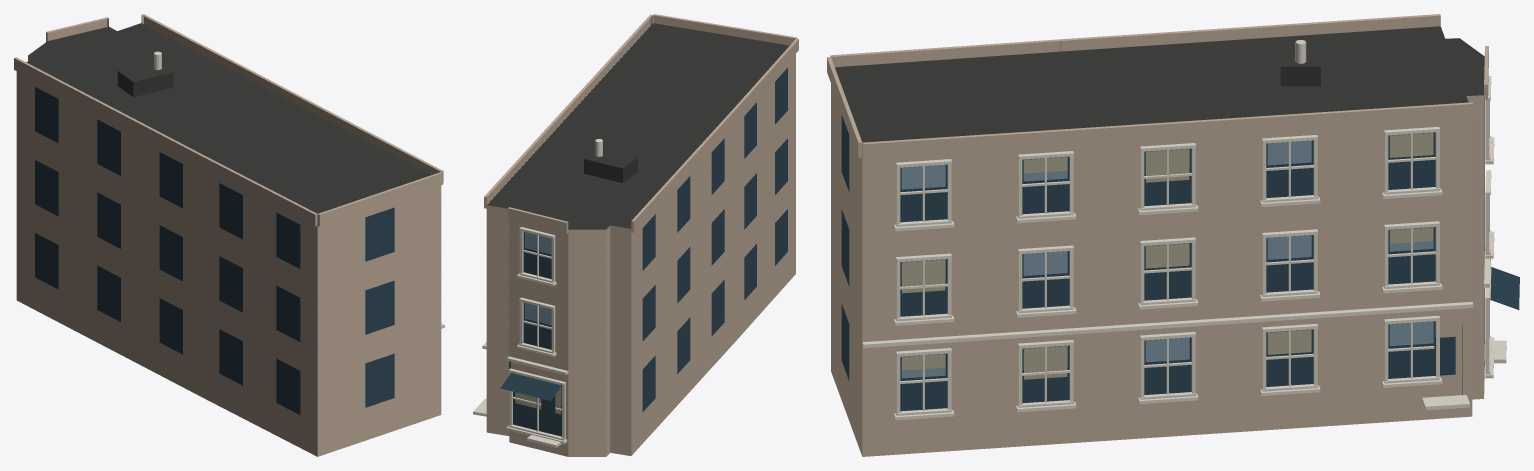
3 renders of one model, left to right at view 1: azimuth 30°, elevation 25°; view 2: azimuth 150°, elevation 25°; view 3: azimuth 270°, elevation 25°, orthographic. The views are drawn at different scales.
Parts seen in each view (by area): view 1: Footprint 0 / surface 2, Footprint 0 / surface 1, Inset glazing, Facade bay volumes, Inferred rooftop service enclosure / surface 5, Inferred rooftop service enclosure / surface 3; view 2: Footprint 0 / surface 2, Footprint 0 / surface 1, Inset glazing, Facade bay volumes, Cornices and window frames, Storefronts and doors, Sky reflection panels, Inferred rooftop service enclosure / surface 6, Inferred rooftop service enclosure / surface 3, Interior blind variation; view 3: Footprint 0 / surface 2, Footprint 0 / surface 1, Cornices and window frames, Inset glazing, Facade bay volumes, Interior blind variation, Sky reflection panels, Storefronts and doors, Inferred rooftop service enclosure / surface 1, Inferred rooftop service enclosure / surface 3.
Boxes of the visible parts, <box> form: Footprint 0 / surface 2: <box>16,56,441,456</box>; Footprint 0 / surface 1: <box>26,23,431,213</box>; Inset glazing: <box>35,87,394,414</box>; Facade bay volumes: <box>14,14,443,226</box>; Inferred rooftop service enclosure / surface 5: <box>133,72,173,97</box>; Inferred rooftop service enclosure / surface 3: <box>118,62,172,81</box>; Footprint 0 / surface 2: <box>486,54,795,456</box>; Footprint 0 / surface 1: <box>487,23,789,229</box>; Inset glazing: <box>513,68,787,436</box>; Facade bay volumes: <box>484,14,798,233</box>; Cornices and window frames: <box>473,227,568,447</box>; Storefronts and doors: <box>500,361,561,430</box>; Sky reflection panels: <box>515,232,561,405</box>; Inferred rooftop service enclosure / surface 6: <box>584,159,622,182</box>; Inferred rooftop service enclosure / surface 3: <box>584,149,637,168</box>; Interior blind variation: <box>515,387,560,414</box>; Footprint 0 / surface 2: <box>831,84,1484,456</box>; Footprint 0 / surface 1: <box>835,26,1484,142</box>; Cornices and window frames: <box>862,76,1506,420</box>; Inset glazing: <box>841,115,1455,411</box>; Facade bay volumes: <box>827,14,1488,159</box>; Interior blind variation: <box>902,133,1433,379</box>; Sky reflection panels: <box>901,132,1433,378</box>; Storefronts and doors: <box>1462,259,1519,395</box>; Inferred rooftop service enclosure / surface 1: <box>1280,66,1320,86</box>; Inferred rooftop service enclosure / surface 3: <box>1280,41,1320,66</box>.
Bounding box in the file's own units: 9.29 × 11.33 × 20.74.
